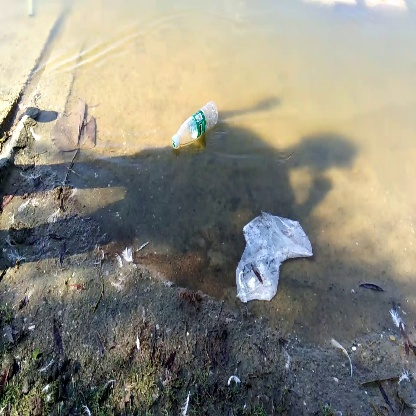bottle: (170, 97, 224, 156)
plastic-bag: (232, 208, 315, 310)
